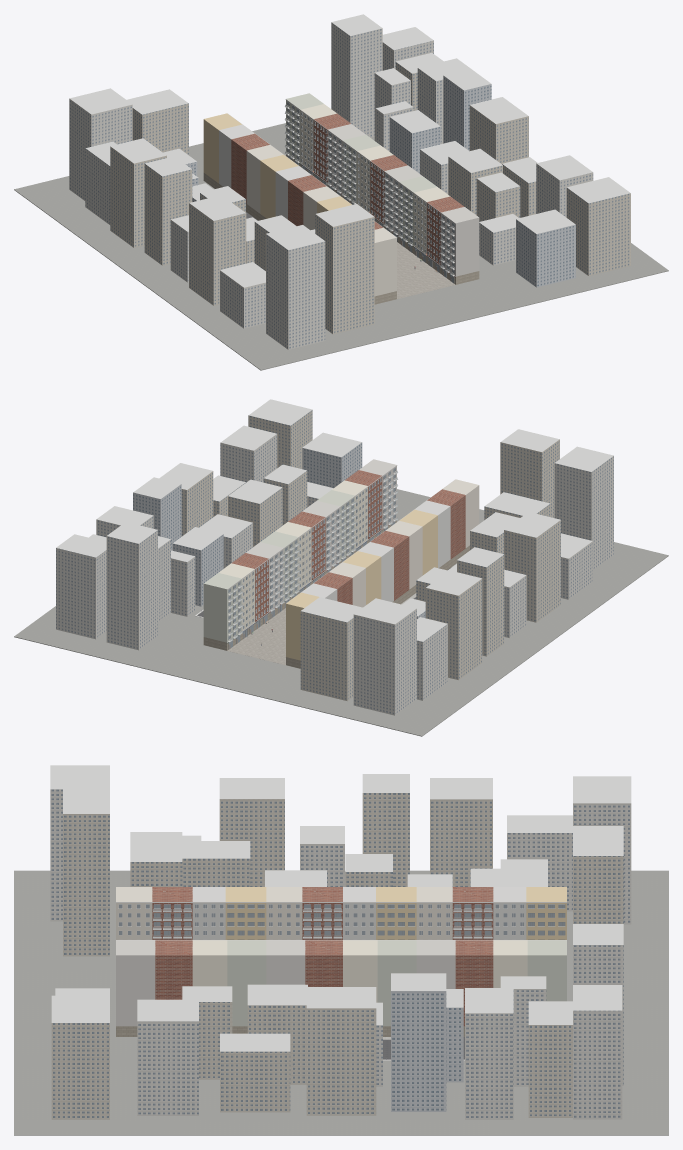
The picture shows the model from 3 angles, top to bottom: view 1: azimuth 30°, elevation 25°; view 2: azimuth 150°, elevation 25°; view 3: azimuth 270°, elevation 25°; orthographic projection. The views are drawn at different scales.
Visible parts, largest first — view 1: Geom3D (×71), 3DGeom-4901, 3DGeom-4912, 3DGeom-4909, 3DGeom-4910, 3DGeom-4904, 3DGeom-4902; view 2: Geom3D (×72), 3DGeom-4912, 3DGeom-4902, 3DGeom-4910, 3DGeom-4909, 3DGeom-4904; view 3: Geom3D (×80), 3DGeom-4911, 3DGeom-4909, 3DGeom-4910, 3DGeom-4901, 3DGeom-4903, 3DGeom-4902.
Part boxes in pixels (x1=…): Geom3D (×71): x1=14, y1=14, x2=668, y2=370; 3DGeom-4901: x1=301, y1=112, x2=326, y2=180; 3DGeom-4912: x1=343, y1=143, x2=397, y2=232; 3DGeom-4909: x1=287, y1=102, x2=341, y2=190; 3DGeom-4910: x1=400, y1=185, x2=454, y2=273; 3DGeom-4904: x1=358, y1=154, x2=383, y2=221; 3DGeom-4902: x1=414, y1=195, x2=440, y2=263; Geom3D (×72): x1=14, y1=399, x2=668, y2=736; 3DGeom-4912: x1=285, y1=509, x2=339, y2=598; 3DGeom-4902: x1=356, y1=478, x2=381, y2=546; 3DGeom-4910: x1=341, y1=468, x2=395, y2=556; 3DGeom-4909: x1=228, y1=551, x2=282, y2=639; 3DGeom-4904: x1=299, y1=520, x2=324, y2=587; Geom3D (×80): x1=14, y1=765, x2=668, y2=1135; 3DGeom-4911: x1=304, y1=904, x2=414, y2=934; 3DGeom-4909: x1=454, y1=904, x2=564, y2=934; 3DGeom-4910: x1=154, y1=904, x2=264, y2=934; 3DGeom-4901: x1=419, y1=904, x2=523, y2=934; 3DGeom-4903: x1=269, y1=904, x2=373, y2=934; 3DGeom-4902: x1=119, y1=904, x2=223, y2=934.
Bounding box in the file's own units: 208 × 52.68 × 218.
44 materials, 9 textured.
